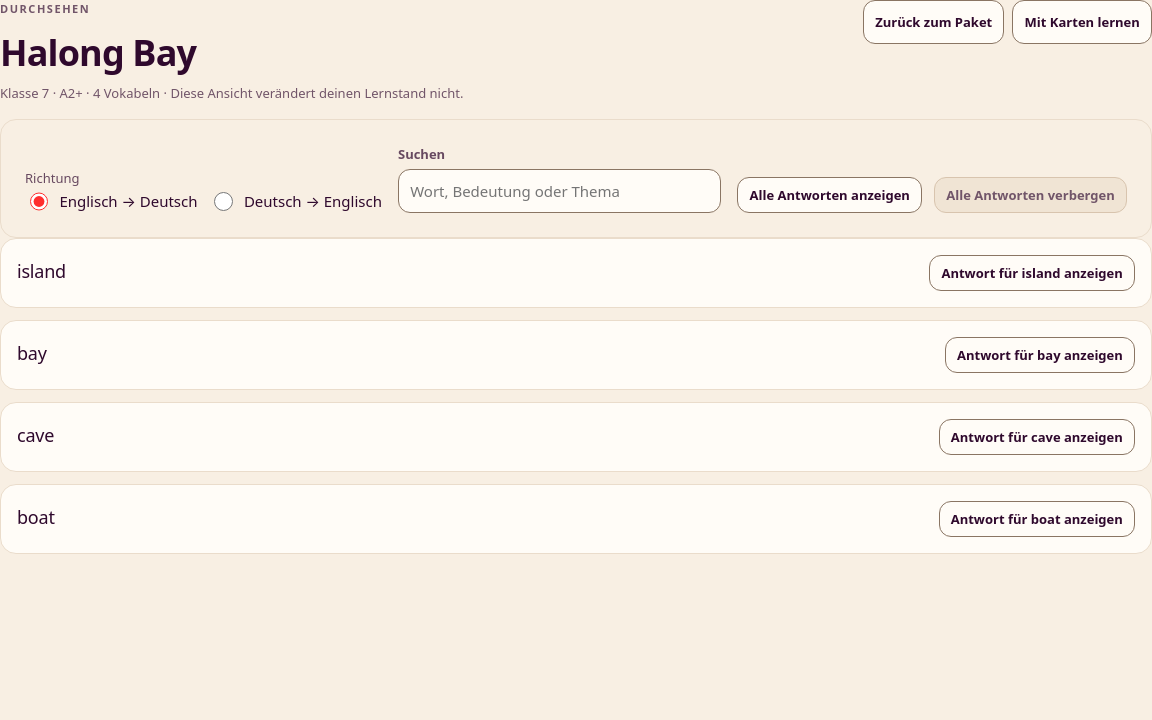
Test case: Vokabeln durchsehen › zeigt und verbirgt alle Antworten gemeinsam
What coordinates should you click on to do the following:
click the button "Alle Antworten anzeigen"
I would click on:
 (830, 195)
Its box is x1=737 y1=177 x2=922 y2=213.
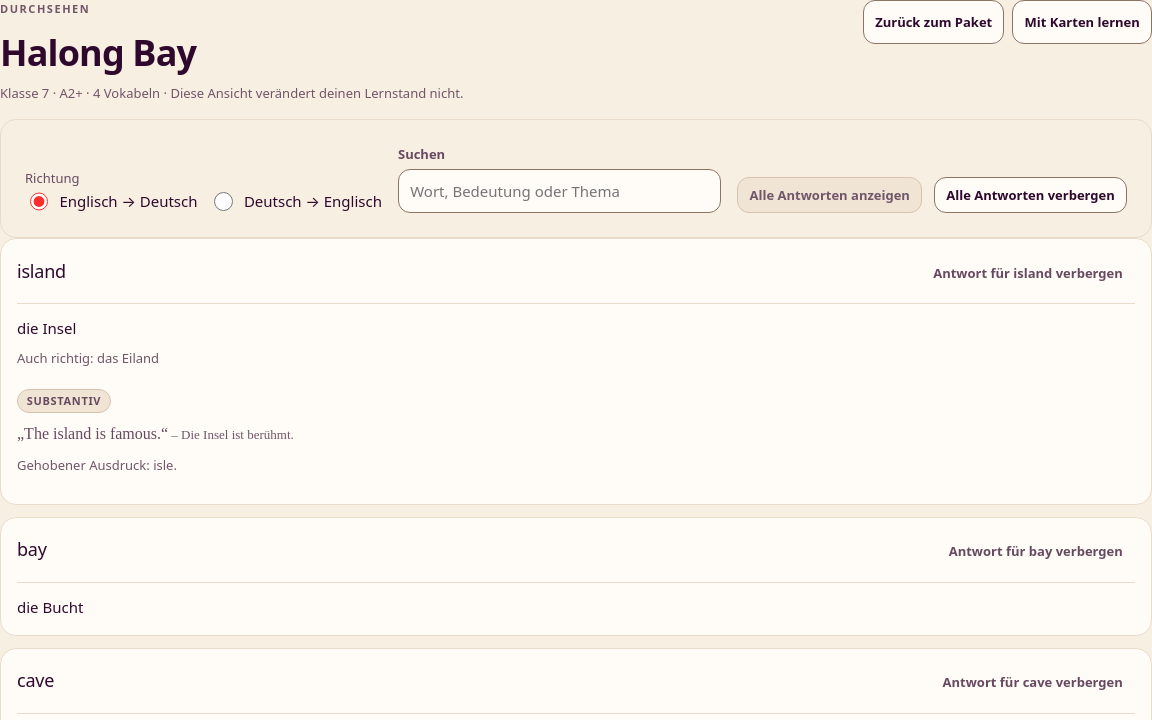
Now the button "Alle Antworten anzeigen" is disabled, box x1=737 y1=177 x2=922 y2=213
What coordinates should you click on to do the following:
click the button "Alle Antworten verbergen"
I would click on:
 (1031, 195)
Its box is x1=934 y1=177 x2=1127 y2=213.
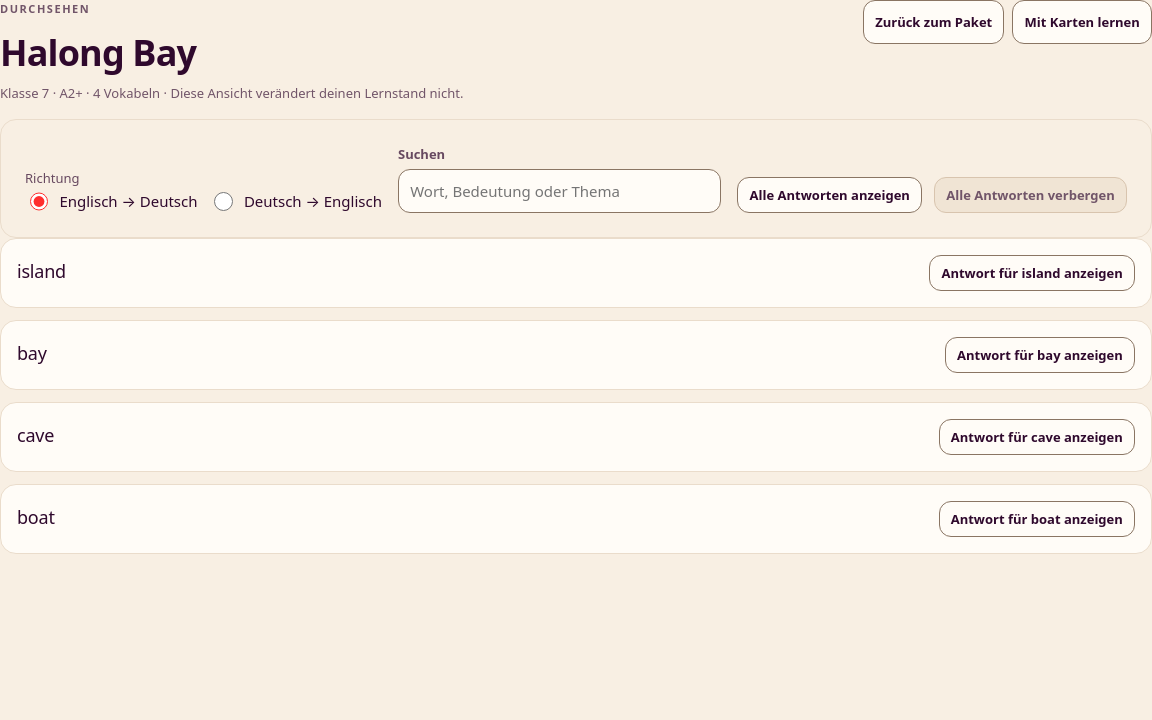
Now the text "die Insel" is gone
Now the button "Alle Antworten verbergen" is disabled, box x1=934 y1=177 x2=1127 y2=213
